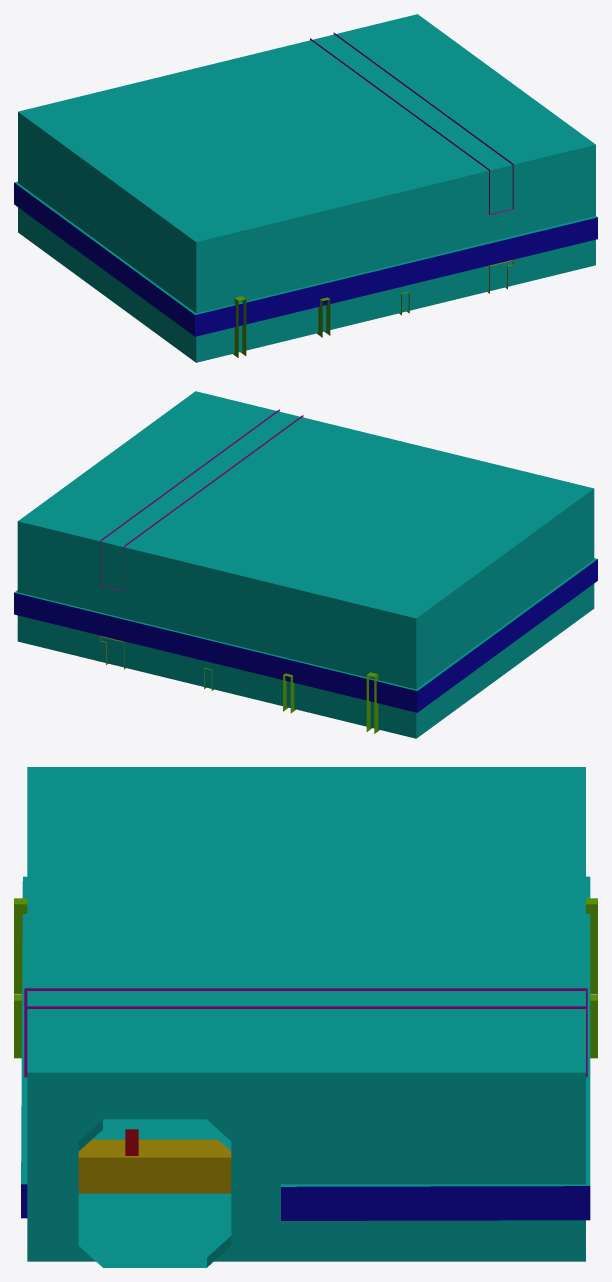
File: Shooting_range.fbx
3 renders of one model, top to bottom at view 1: azimuth 30°, elevation 25°; view 2: azimuth 150°, elevation 25°; view 3: azimuth 270°, elevation 25°, orthographic. The views are drawn at different scales.
Visible parts, largest first — view 1: Shooting_Range; view 2: Shooting_Range; view 3: Shooting_Range.
Boxes of the visible parts, x1=… form: Shooting_Range: x1=14, y1=14, x2=597, y2=362; Shooting_Range: x1=14, y1=391, x2=597, y2=738; Shooting_Range: x1=14, y1=767, x2=597, y2=1267.
Bounding box in the file's own units: 1384 × 396 × 1076.
